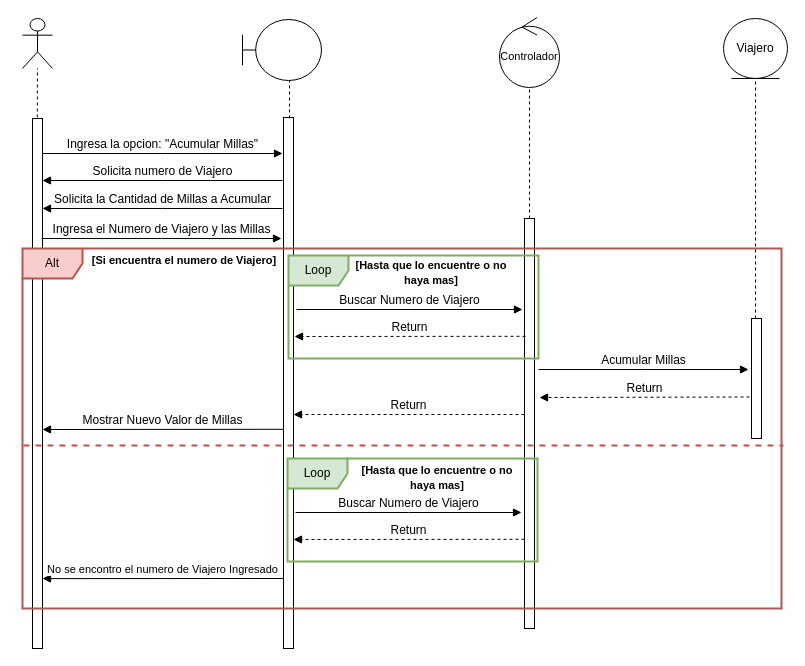
Some shapes in this 805 by 666 pixel diagram are drawn without their labels. The shapes that lost their labels are listed below. From the top down, each one's centre as x and y in pixels, then its label:
the point at 37,43: Usuario
the point at 282,49: Interfaz
